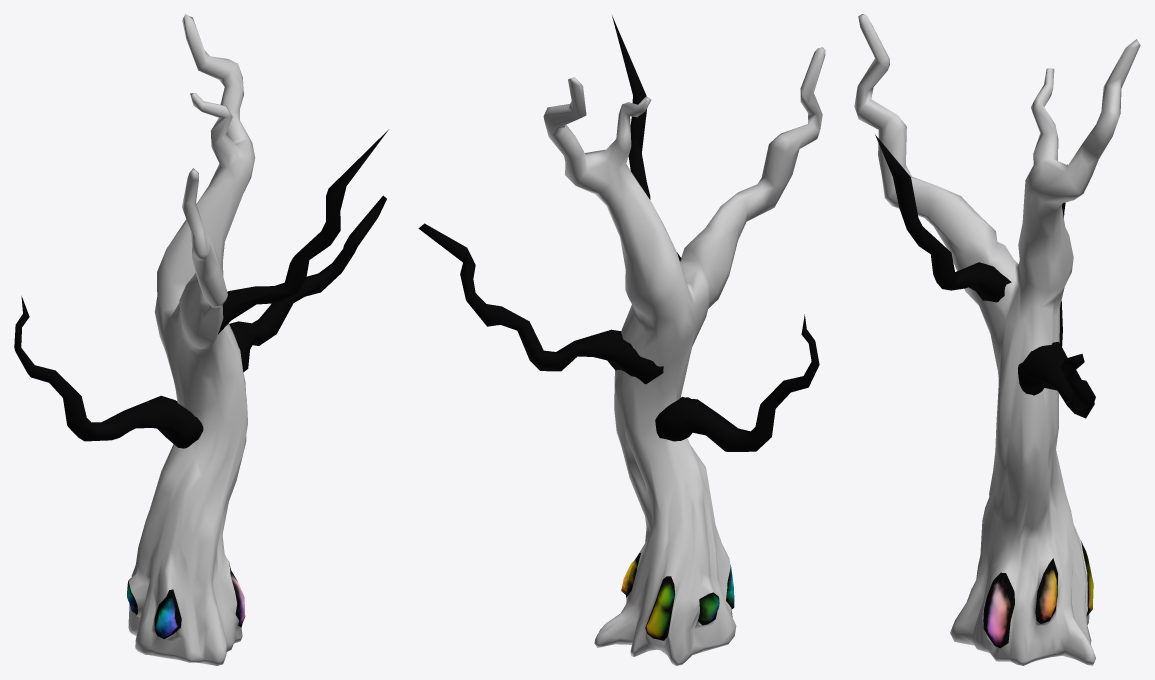
Rendered from TREE 7.fbx.
3 views of the same model, side by side, from view 1: azimuth 30°, elevation 25°; view 2: azimuth 150°, elevation 25°; view 3: azimuth 270°, elevation 25° (orthographic). The views are drawn at different scales.
Visible parts, largest first — view 1: tree3; view 2: tree3; view 3: tree3.
Boxes of the visible parts, bbox=[...] form: tree3: bbox=[14, 14, 388, 665]; tree3: bbox=[418, 15, 825, 665]; tree3: bbox=[854, 14, 1140, 665].
Size of the model in its own units: 1445 by 2092 by 859.
